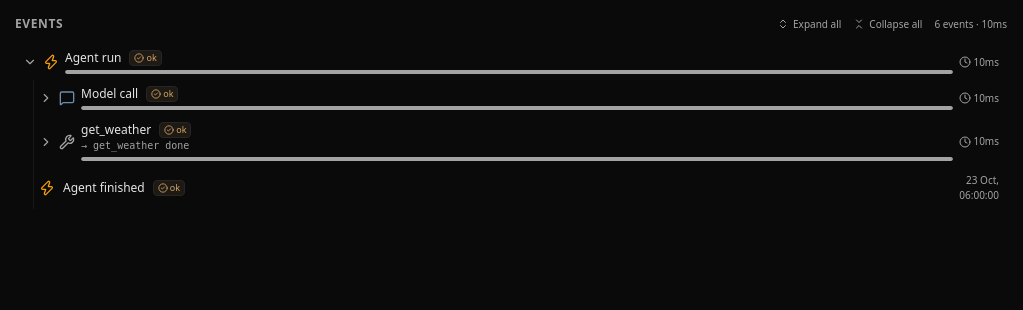
Test: Timeline › expands every step with Expand all and closes them with Collapse all
Click the button with aria-label "Expand all steps" at (809, 24), box [777, 16, 841, 32]
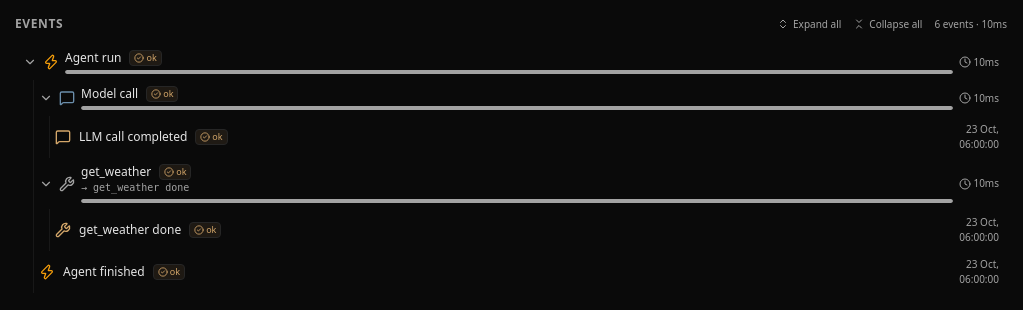
Check: the text "LLM call completed" is shown, box [79, 129, 187, 145]
Check: the text "get_weather done" is shown, box [79, 222, 181, 238]
Click the button with aria-label "Collapse all steps" at (888, 24), box [853, 16, 922, 32]
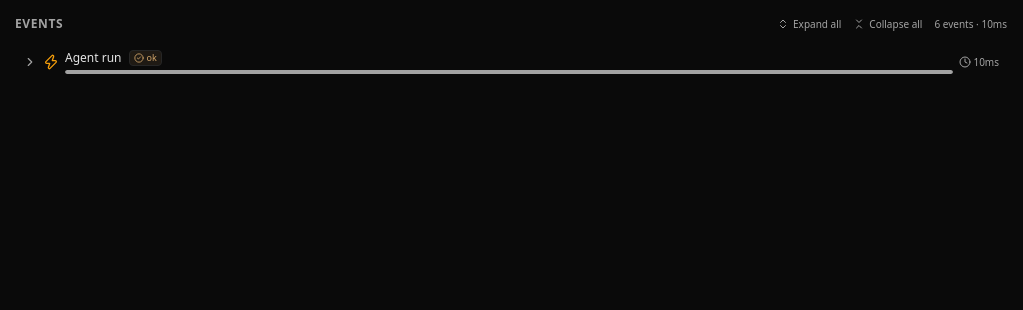
Check: the button "Model call" is gone
Check: the button "LLM call completed" is gone
